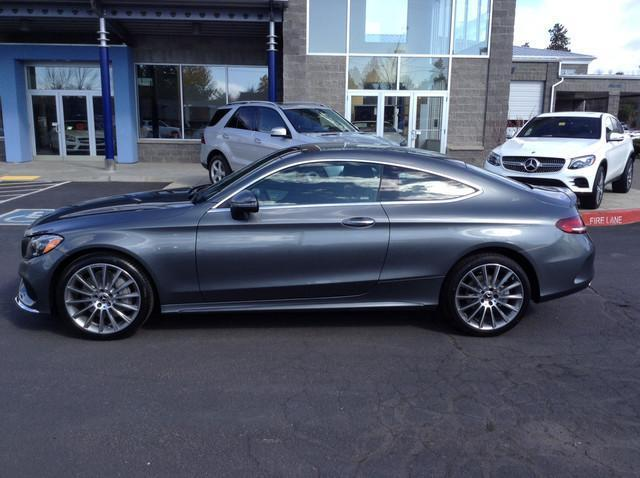C300Coupe: (13, 143, 598, 344)
